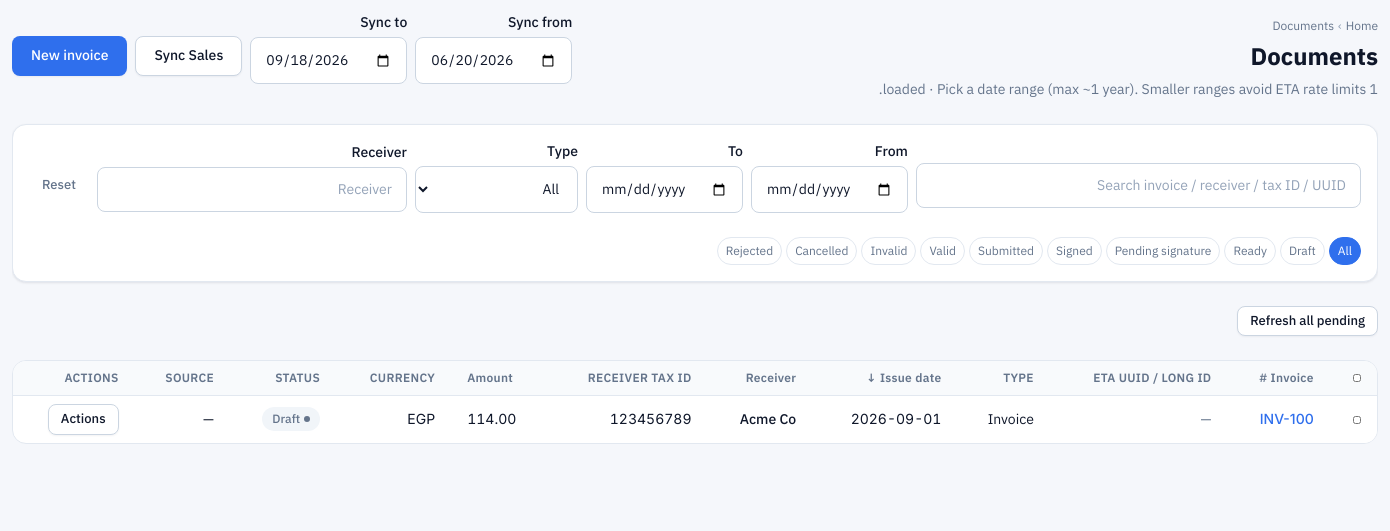
Test: documents list › shows the bulk bar after row selection
Expected: the element with test id "documents-table" is shown, top-left (12, 360), bottom-right (1378, 444)
Click the checkbox named "Select INV-100" at (1357, 420), box top-left (1353, 416), bottom-right (1361, 424)
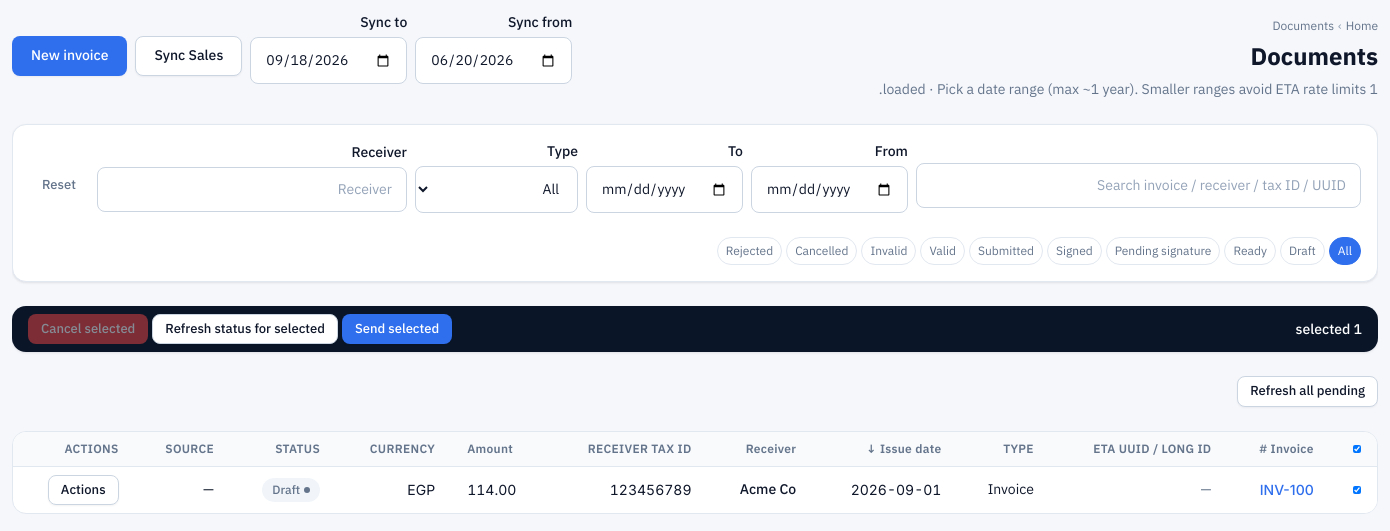
Now the element with test id "documents-bulk-bar" is shown, box top-left (12, 306), bottom-right (1378, 352)
Now the button "Send selected" is shown, box top-left (342, 314), bottom-right (452, 344)
